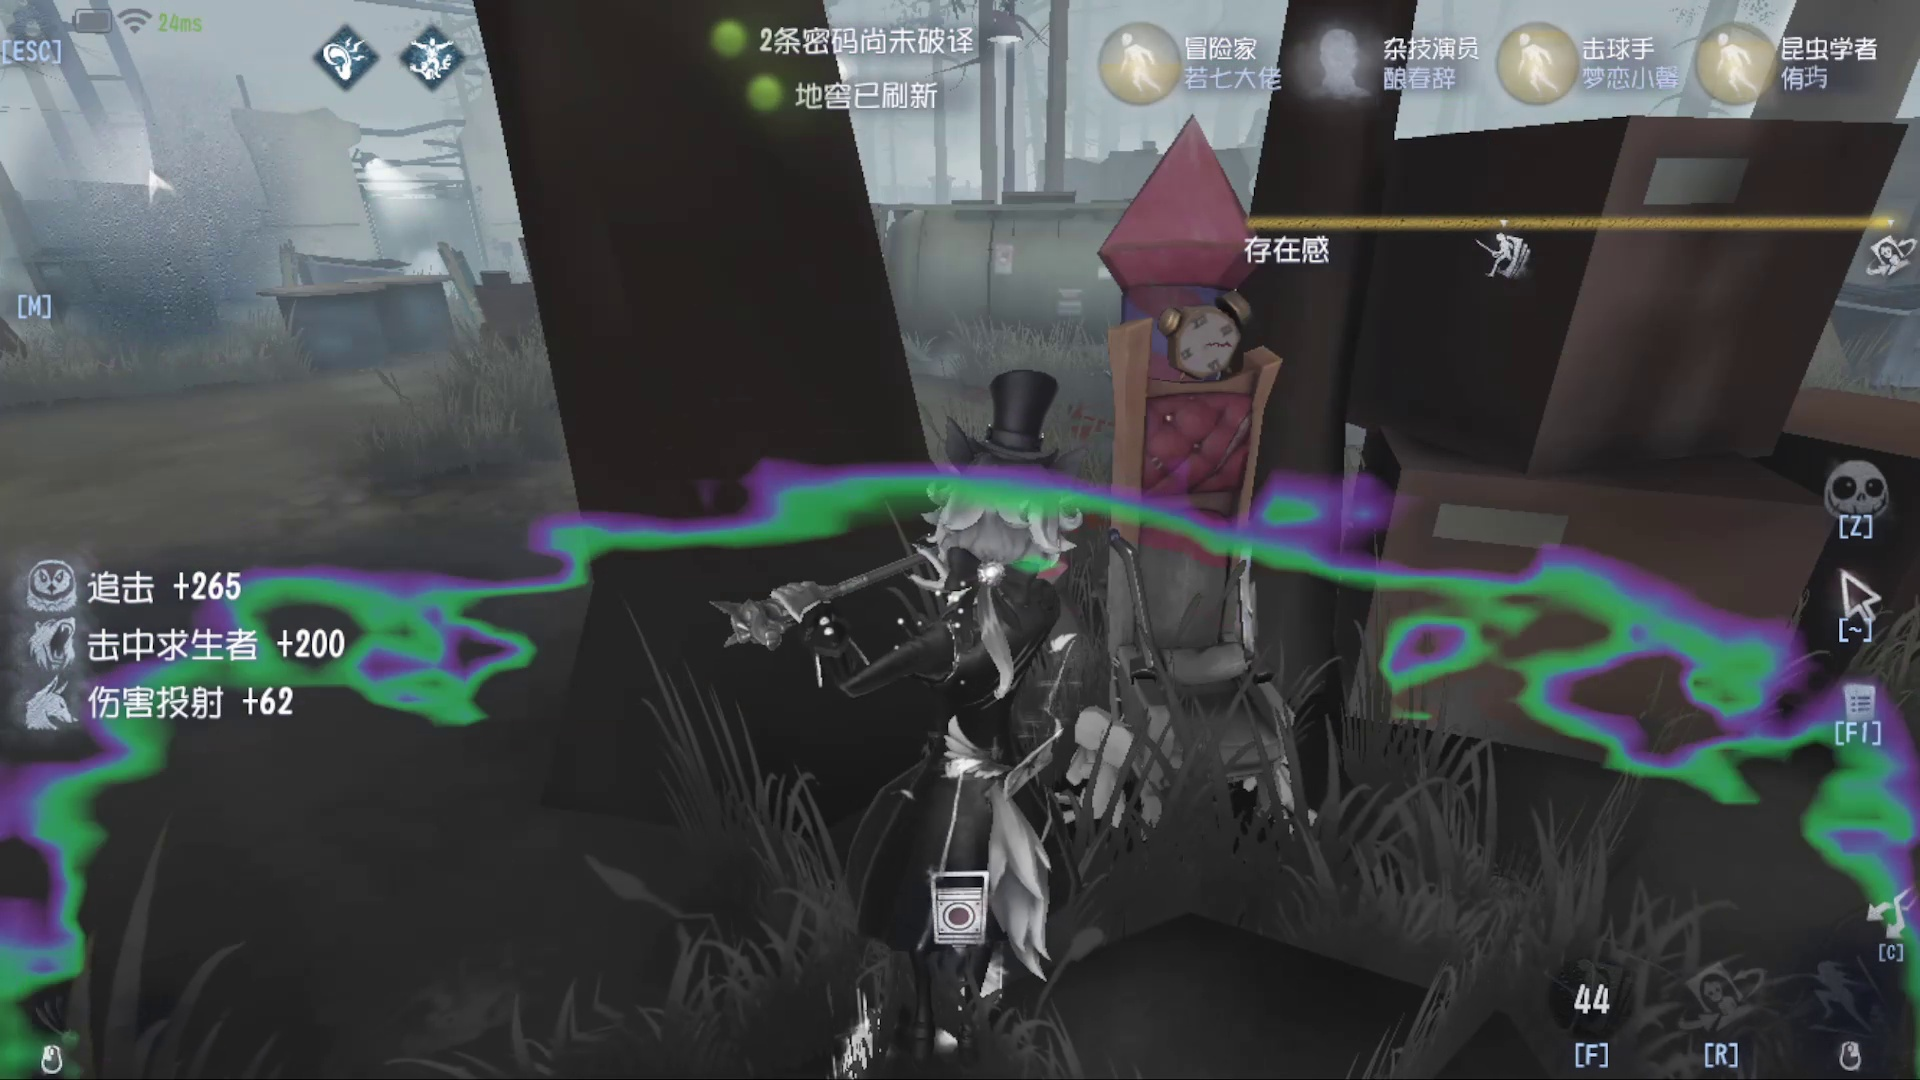狂欢之椅: (1076, 162, 1309, 828)
